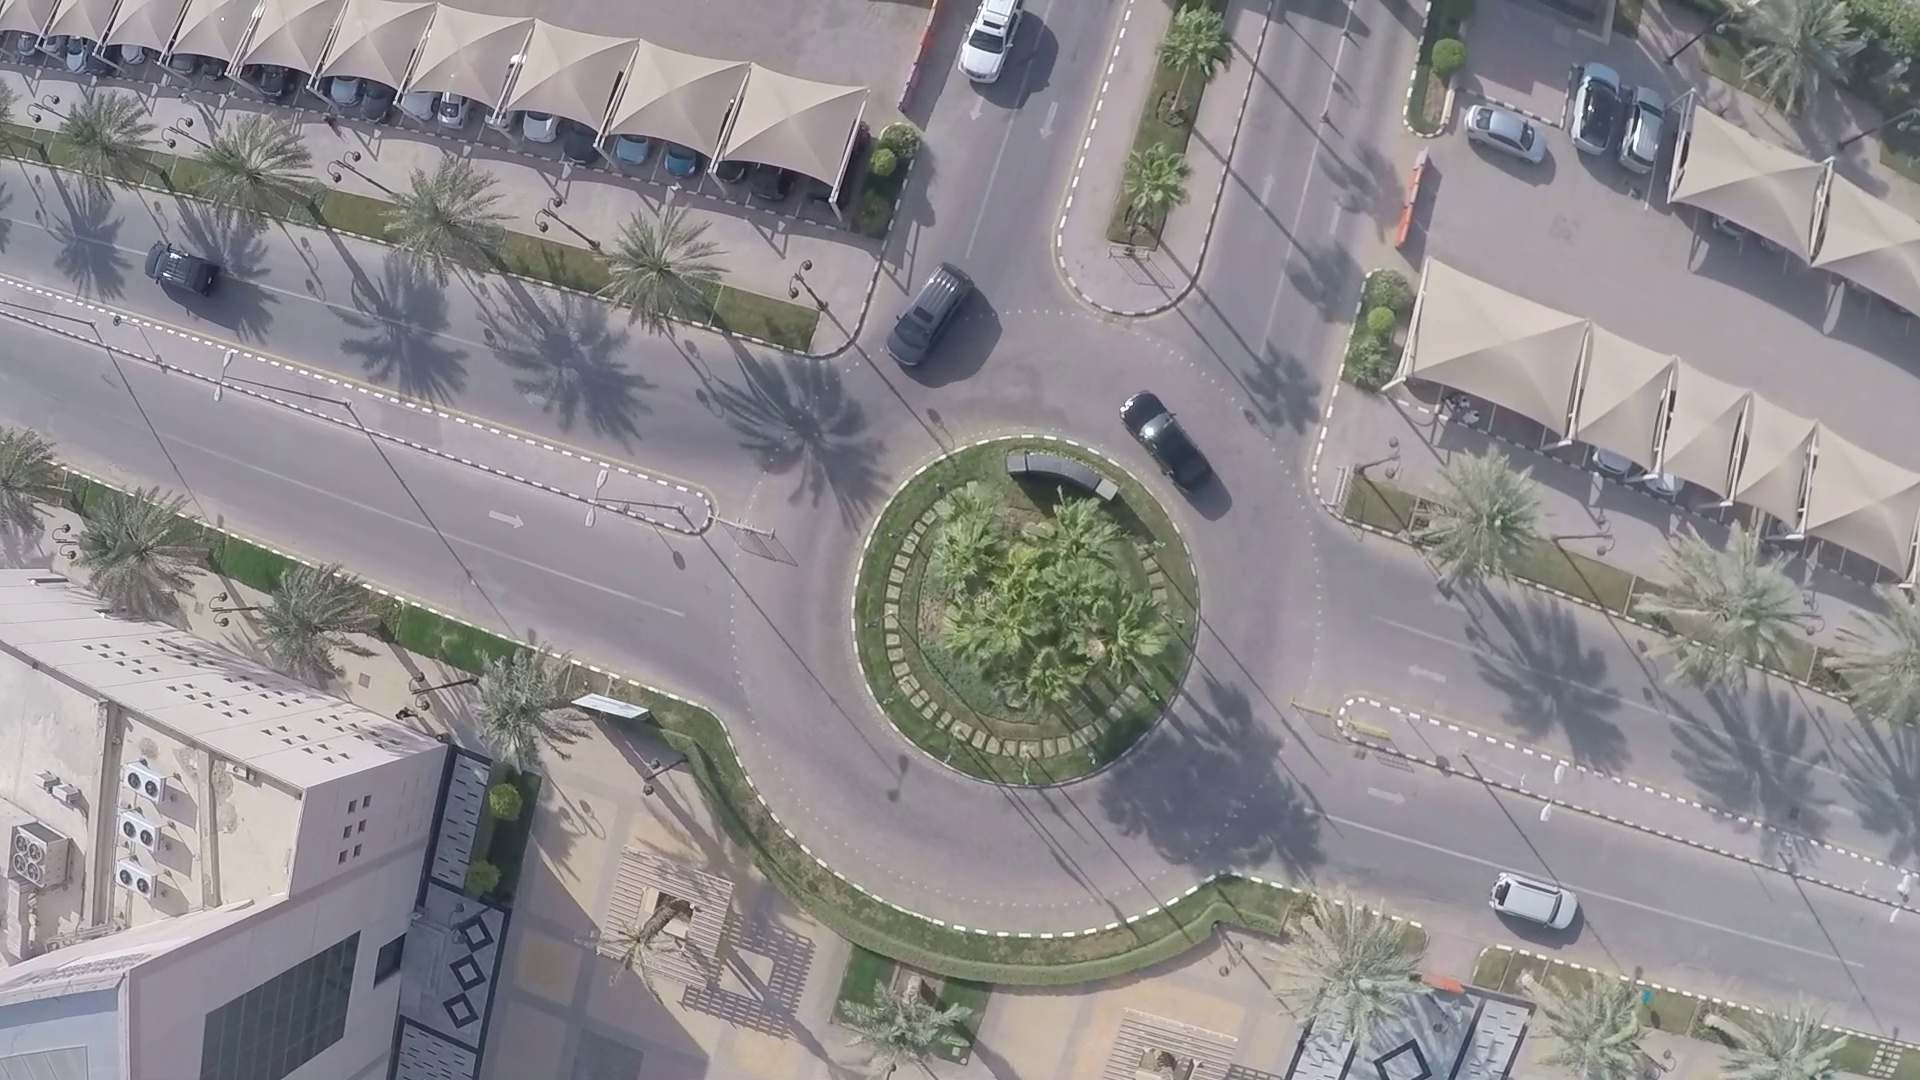car: (1102, 381, 1212, 497), (884, 248, 975, 375), (1487, 870, 1588, 939), (144, 240, 231, 294)
